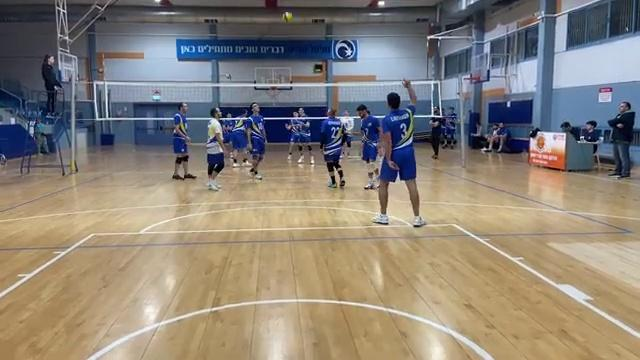ball: (281, 11, 293, 24)
